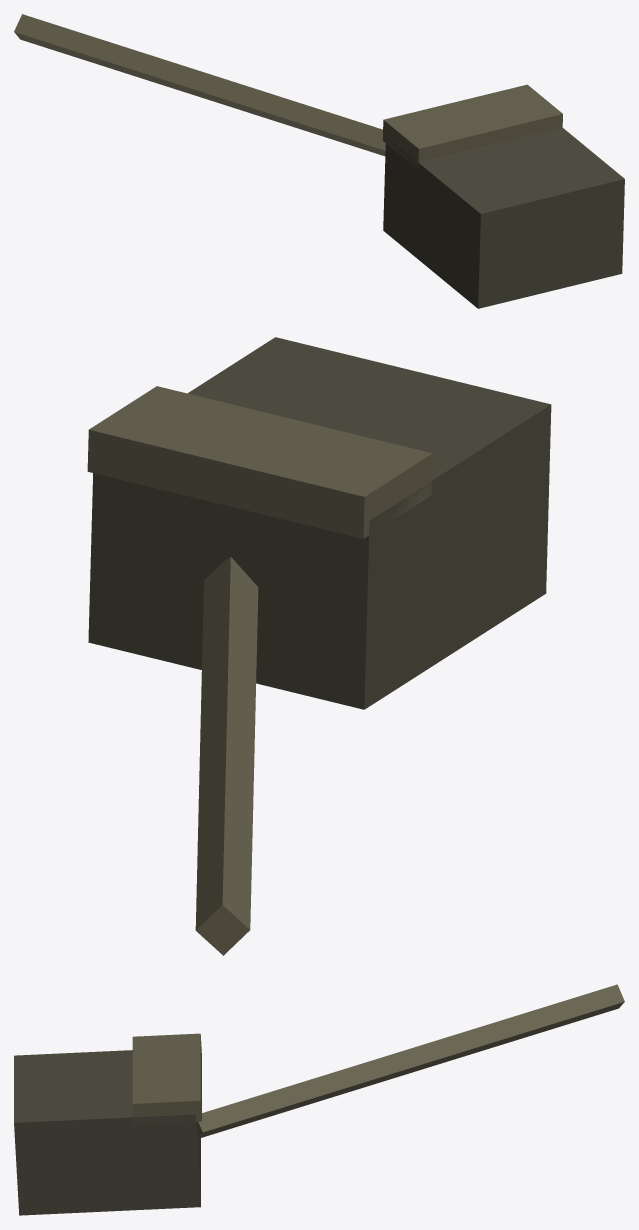
Rendered from satchel_bag.glb.
3 views of the same model, one above another, from view 1: azimuth 30°, elevation 25°; view 2: azimuth 150°, elevation 25°; view 3: azimuth 270°, elevation 25° (orthographic). The views are drawn at different scales.
Visible parts, largest first — view 1: satchel_bag; view 2: satchel_bag; view 3: satchel_bag.
Boxes of the visible parts, x1,y1,x2,y2 form: satchel_bag: [14, 14, 624, 308]; satchel_bag: [87, 337, 551, 955]; satchel_bag: [14, 984, 624, 1215].
Size of the model in its own units: 0.2904 by 0.1113 by 0.537.
Materials: 1 (1 with a texture image).
